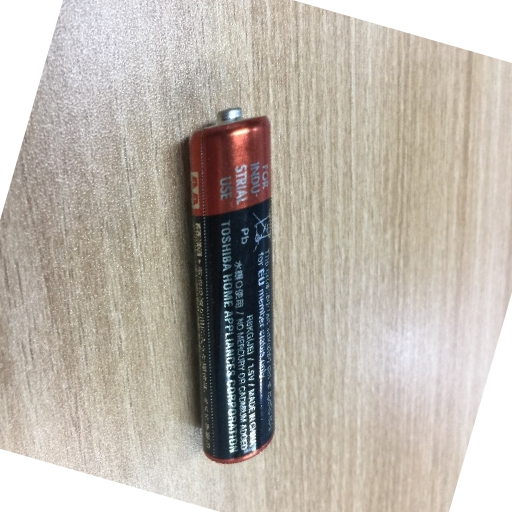Battery_0: (166, 94, 319, 482)
